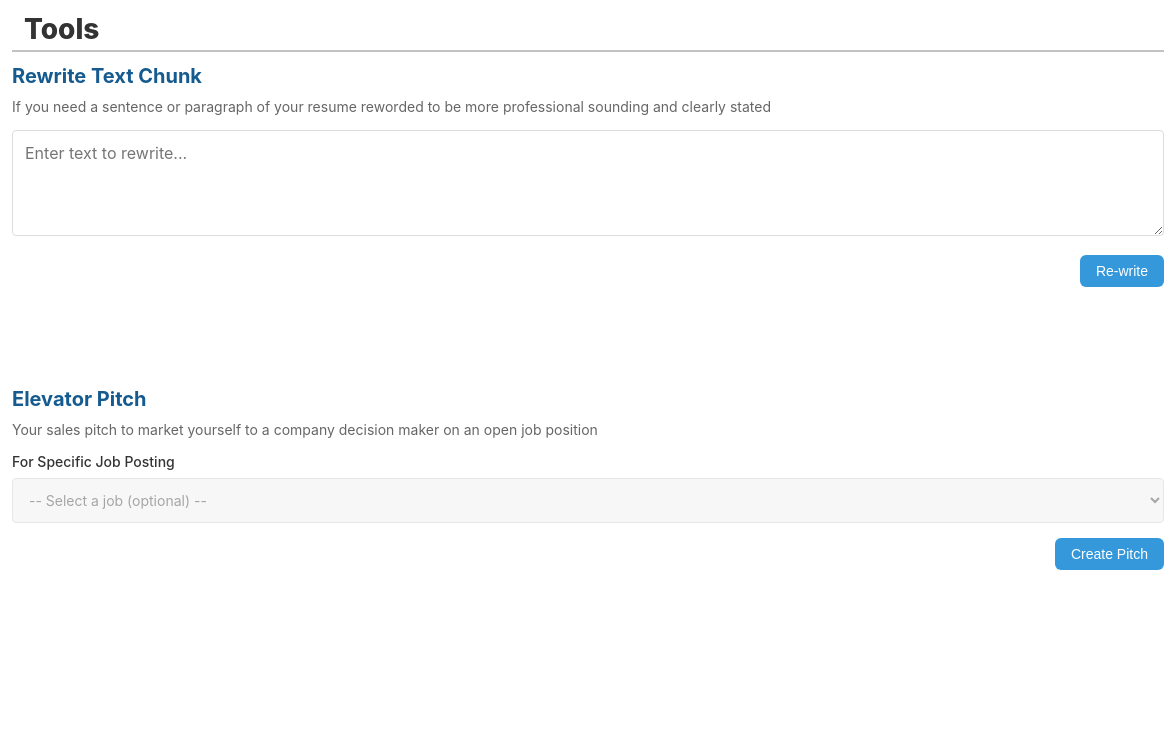
Tools Component › Rewrite Text Functionality › shows error when submitting empty text
Click the button "Re-write": (1122, 271) left=1080, top=255, right=1164, bottom=287
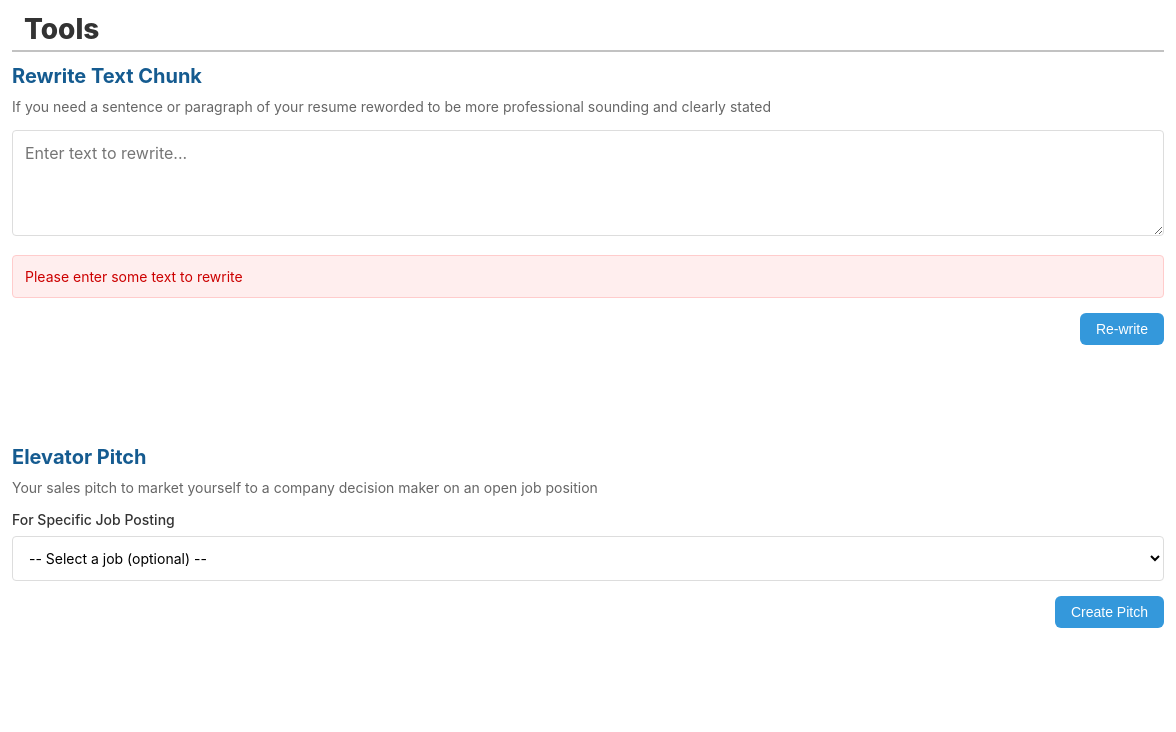
Result: the text "Please enter some text to rewrite" is shown at left=12, top=255, right=1164, bottom=298
